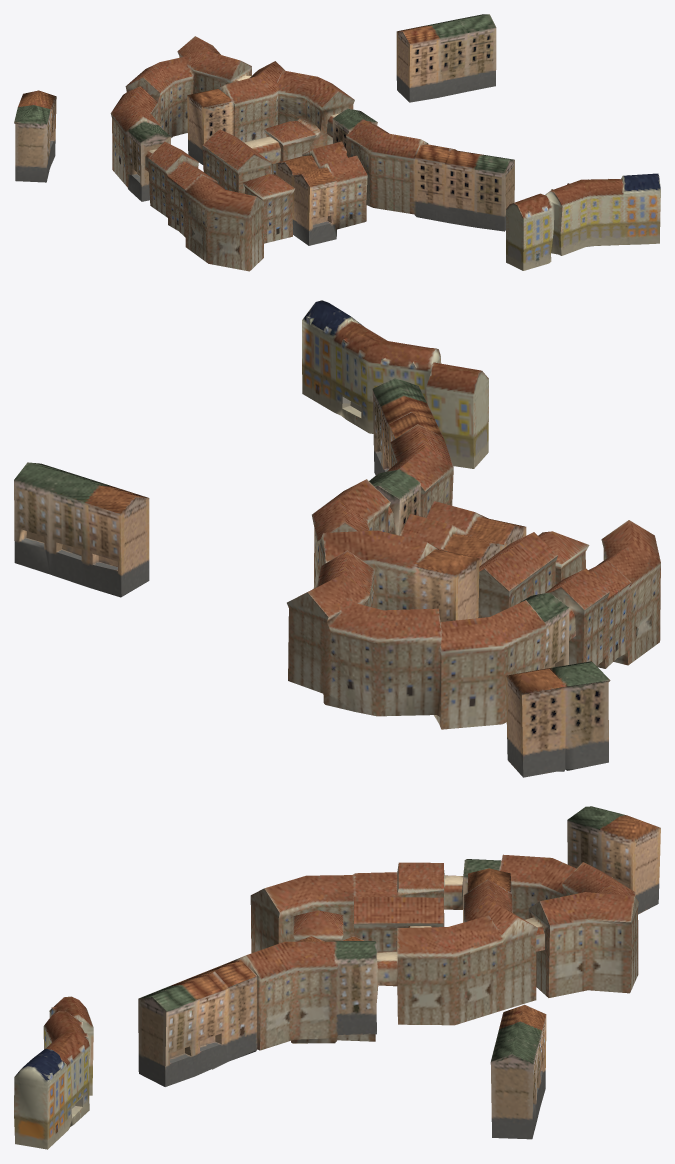
Rendered from clod_c01_both_01_clod003.gltf.
3 views of the same model, one above another, from view 1: azimuth 30°, elevation 25°; view 2: azimuth 150°, elevation 25°; view 3: azimuth 270°, elevation 25° (orthographic). The views are drawn at different scales.
Parts seen in each view (by area): view 1: clod_c01_both_01_clod003_000_meshShape:remesh_mat; view 2: clod_c01_both_01_clod003_000_meshShape:remesh_mat; view 3: clod_c01_both_01_clod003_000_meshShape:remesh_mat.
Boxes of the visible parts, x1=… form: clod_c01_both_01_clod003_000_meshShape:remesh_mat: x1=14, y1=14, x2=660, y2=271; clod_c01_both_01_clod003_000_meshShape:remesh_mat: x1=14, y1=300, x2=660, y2=777; clod_c01_both_01_clod003_000_meshShape:remesh_mat: x1=14, y1=806, x2=660, y2=1149.
Bounding box in the file's own units: 154 × 35.57 × 152.
1 material, 1 textured.
